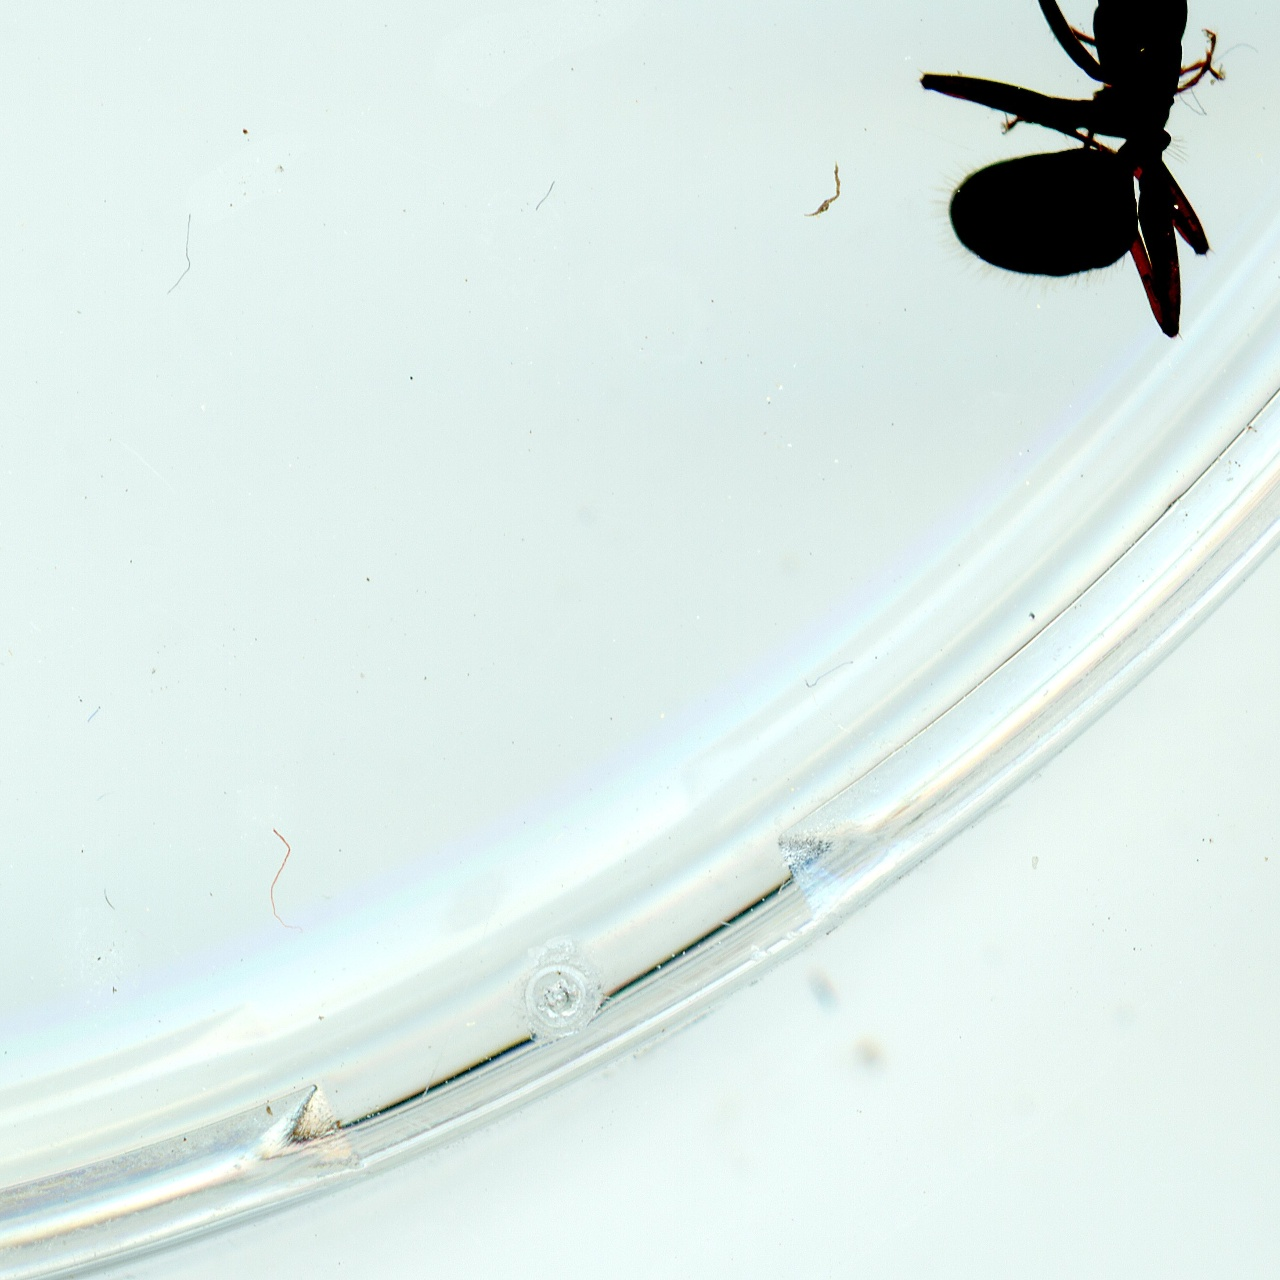arthropod: (853, 0, 1247, 363)
